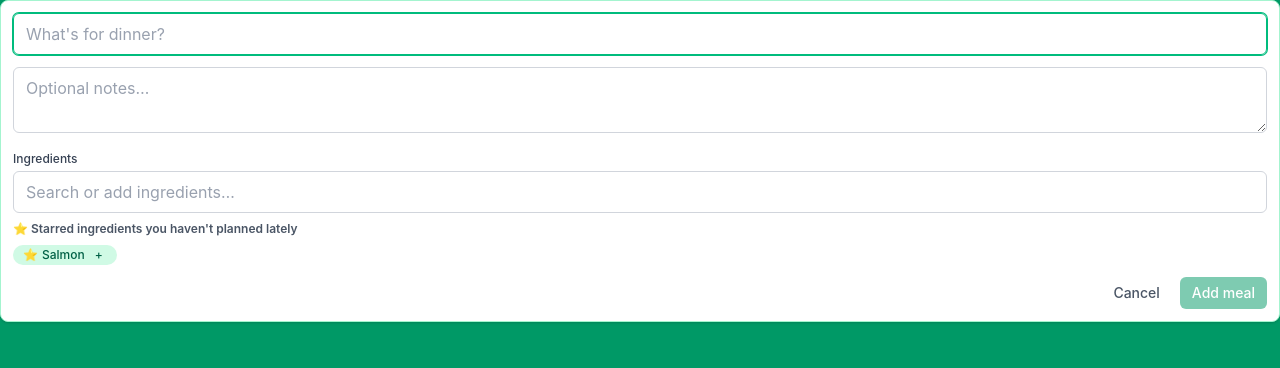
Scenario: MealPlanForm › adds ingredient from autocomplete and shows as removable tag
Type "Broc" into the field with placeholder "Search or add ingredients…" at (640, 192), box [13, 171, 1267, 213]
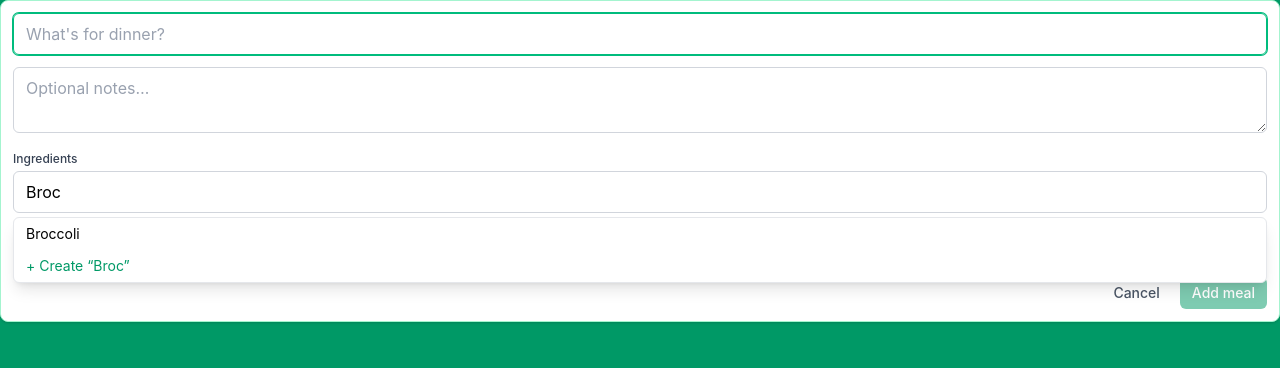
Click the button "Broccoli" at (53, 234), box [14, 218, 1266, 250]
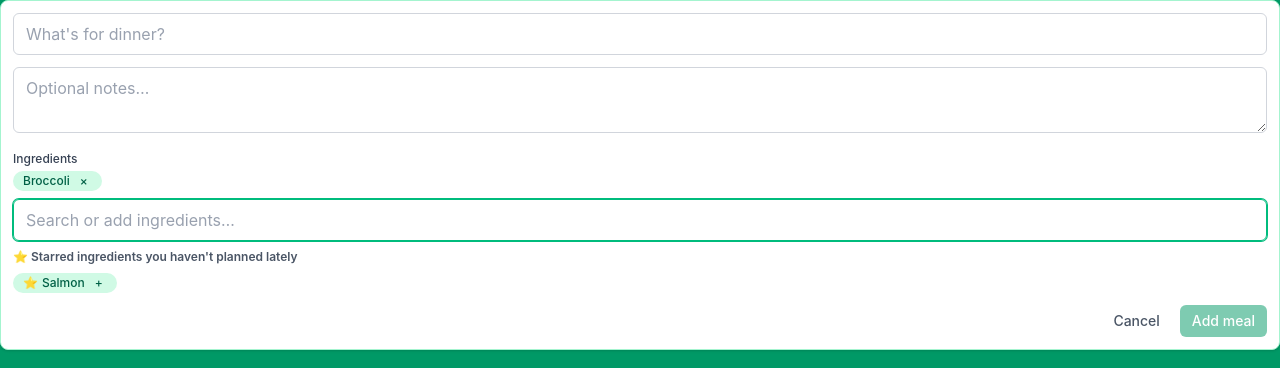
Result: the text "Broccoli" is shown at [23, 173, 70, 189]
Result: the element with test id "selected-ingredients" is shown at [13, 171, 102, 191]
Result: the button named "Remove Broccoli" is shown at [76, 173, 92, 189]
